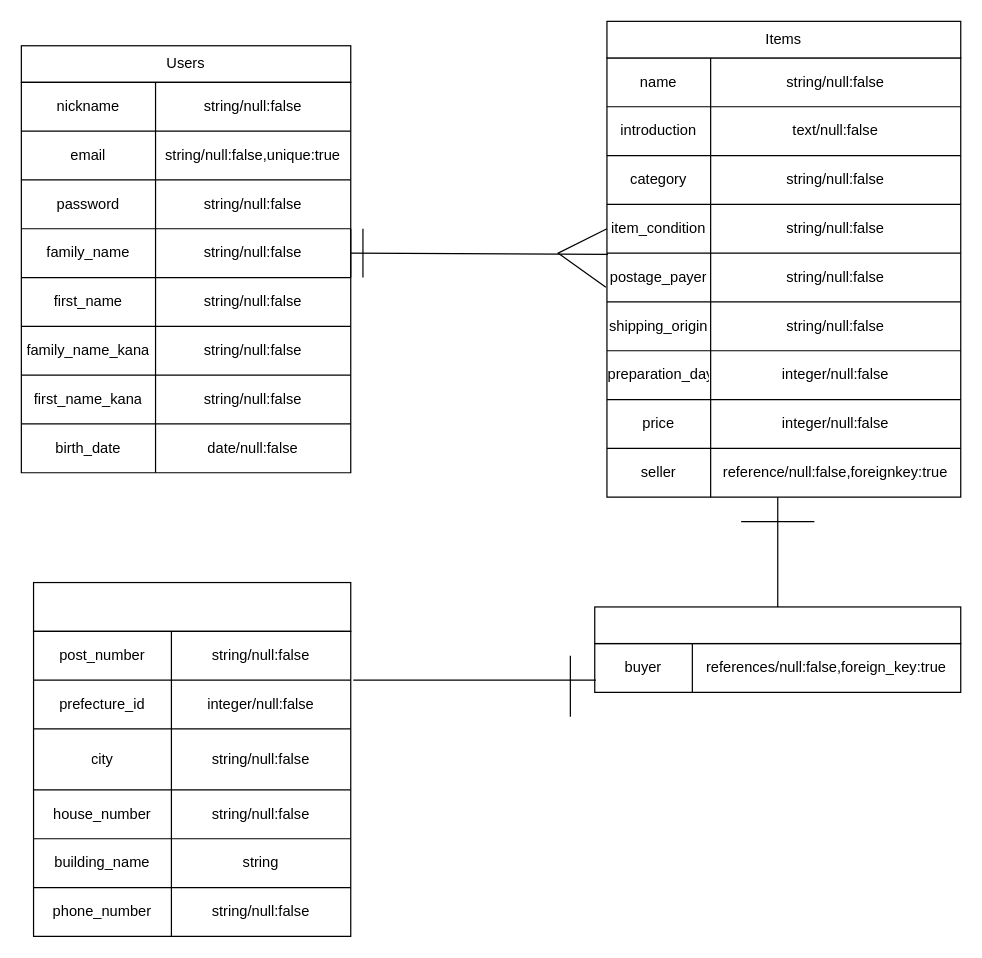
The diagram is 982 pixels wide and 958 high, and some of its shapes have lost their labels. Each missing label, with the centre of its shape:
"buyers" goes at point (777, 625).
"shipping_address" goes at point (191, 606).
